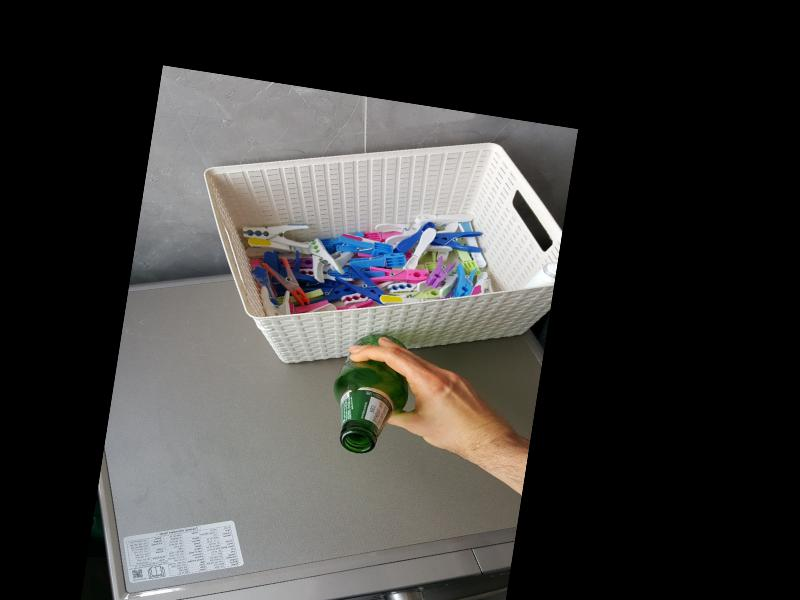Beer: (324, 329, 415, 459)
